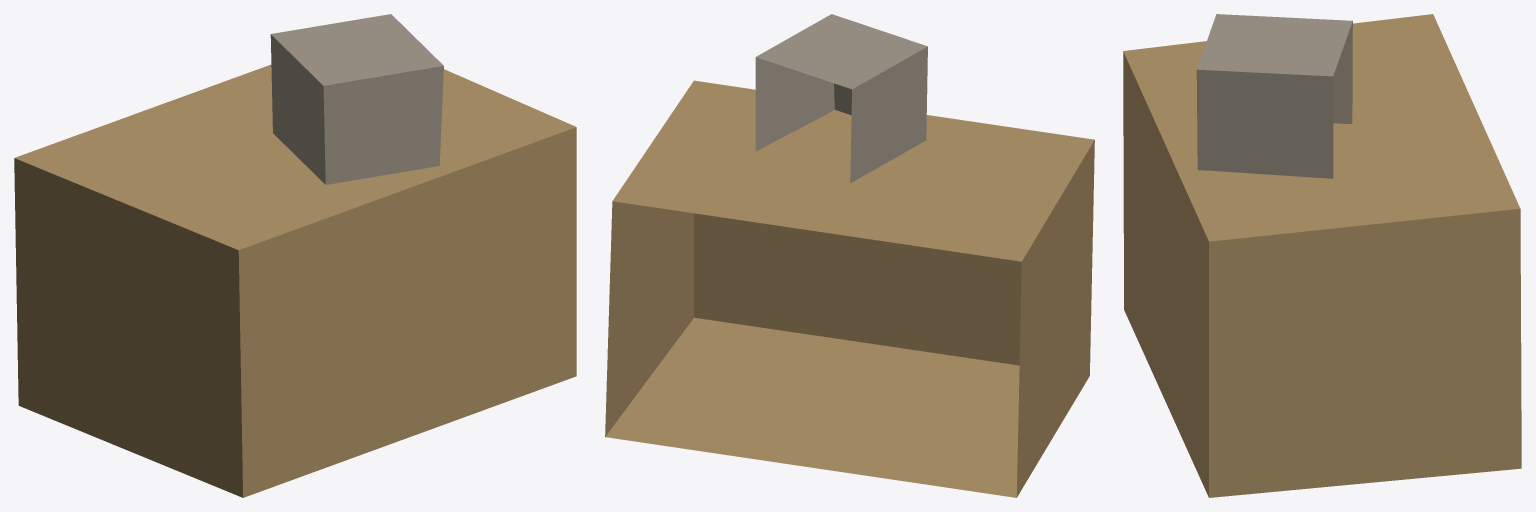
File: MSH_QuestObject_box_01.fbx
The picture shows the model from 3 angles, left to right: view 1: azimuth 30°, elevation 25°; view 2: azimuth 150°, elevation 25°; view 3: azimuth 270°, elevation 25°; orthographic projection. The views are drawn at different scales.
Visible parts, largest first — view 1: MSH_QuestObject_box_01; view 2: MSH_QuestObject_box_01; view 3: MSH_QuestObject_box_01.
Part boxes in pixels (x1,y1,x2,y2): MSH_QuestObject_box_01: (14, 14, 576, 497); MSH_QuestObject_box_01: (605, 14, 1094, 497); MSH_QuestObject_box_01: (1123, 14, 1521, 497).
Size of the model in its own units: 1.59 by 1.17 by 1.18.
